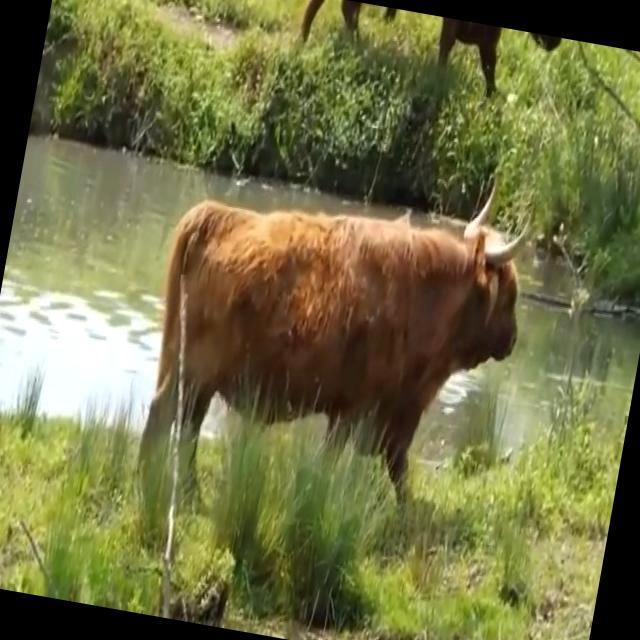COW: (139, 192, 520, 487)
